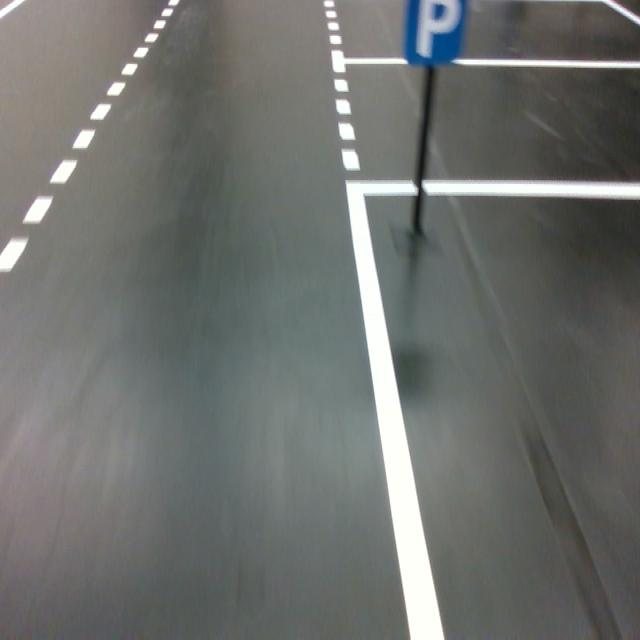parking-sign: (401, 0, 468, 68)
